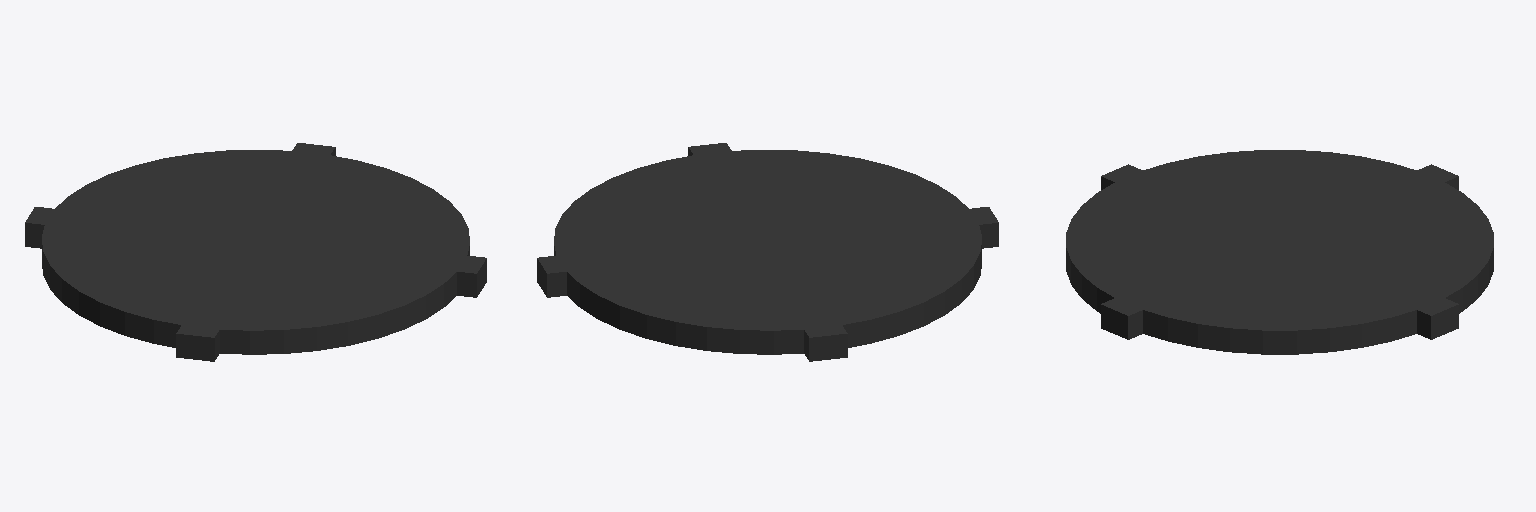
Rendered from Cover.obj.
3 renders of one model, left to right at view 1: azimuth 30°, elevation 25°; view 2: azimuth 150°, elevation 25°; view 3: azimuth 270°, elevation 25°, orthographic.
Visible parts, largest first — view 1: Cover_mesh_Cylinder; view 2: Cover_mesh_Cylinder; view 3: Cover_mesh_Cylinder.
Boxes of the visible parts, box(x1,y1,x2,y2) form: Cover_mesh_Cylinder: box(25, 143, 486, 361); Cover_mesh_Cylinder: box(537, 143, 998, 361); Cover_mesh_Cylinder: box(1066, 150, 1493, 354).
Bounding box in the file's own units: 0.644 × 0.0525 × 0.644.